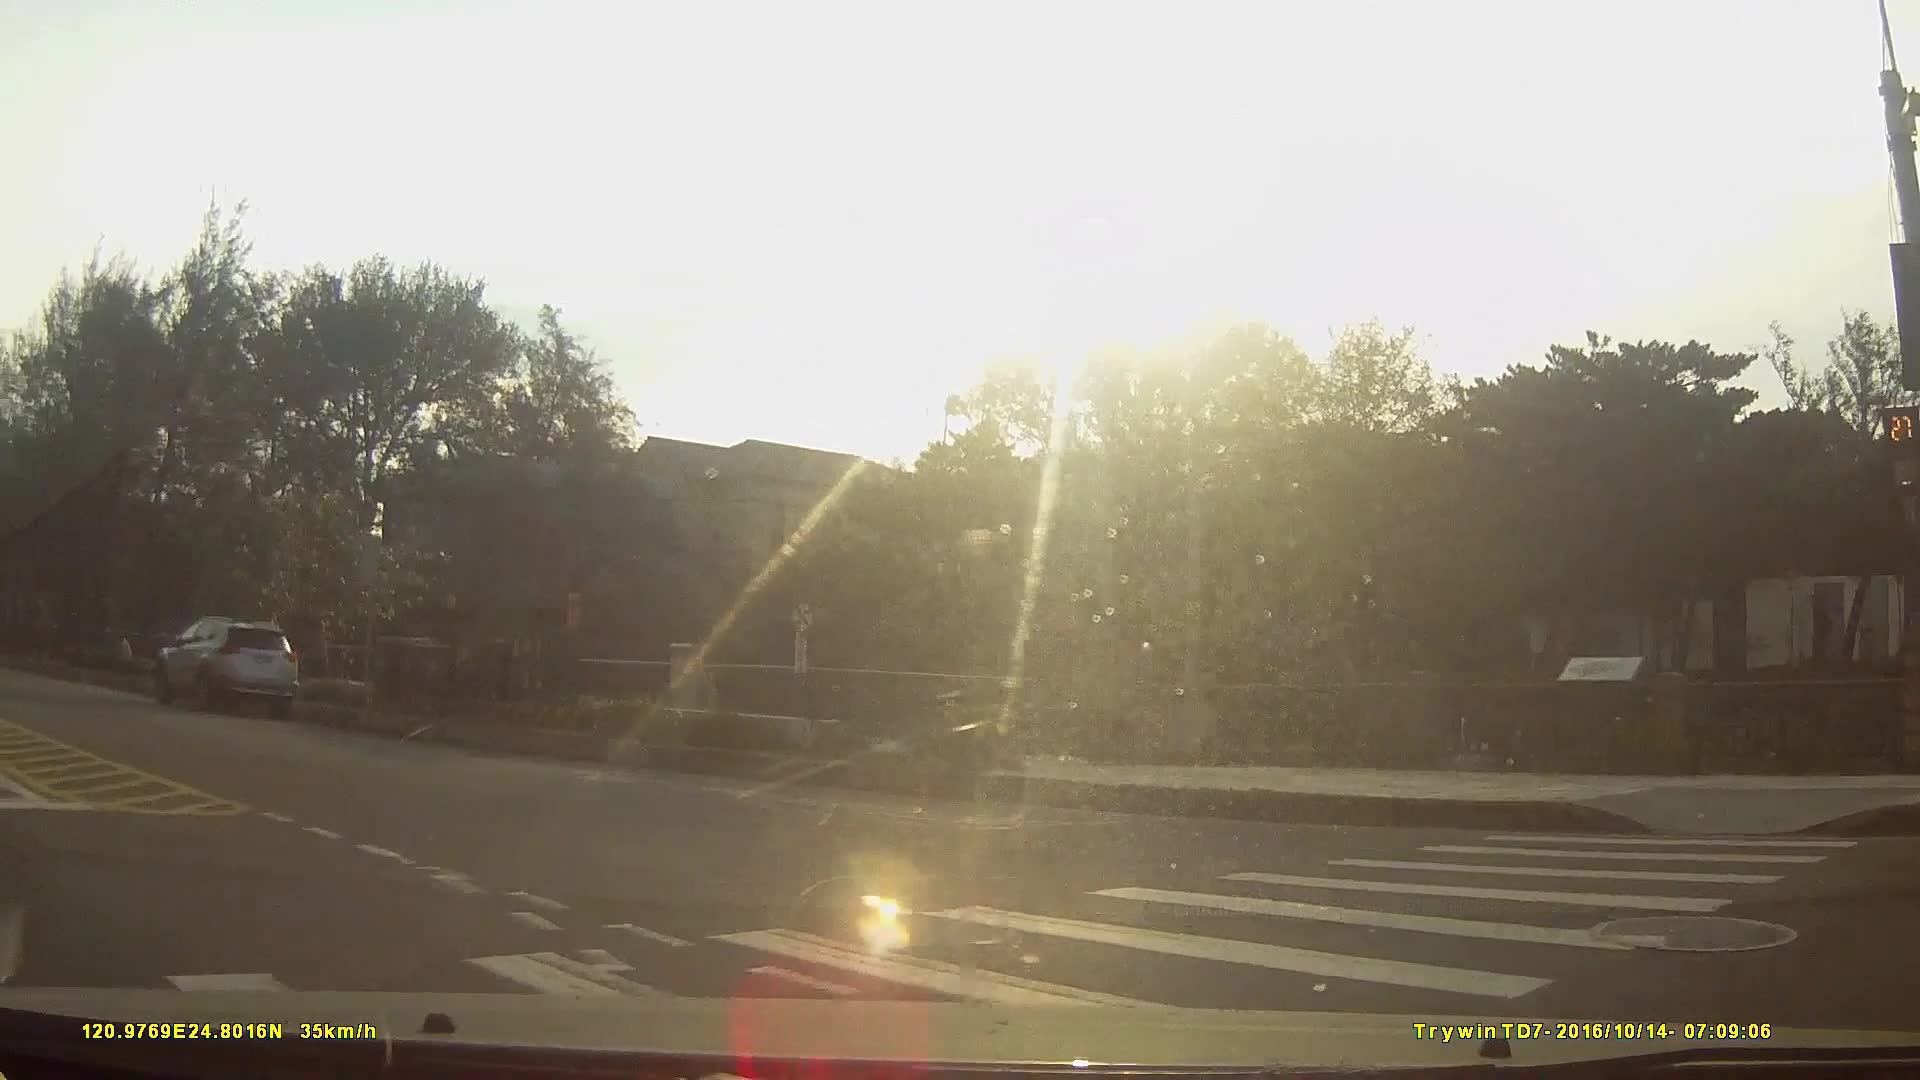vehicle: (153, 612, 297, 716)
